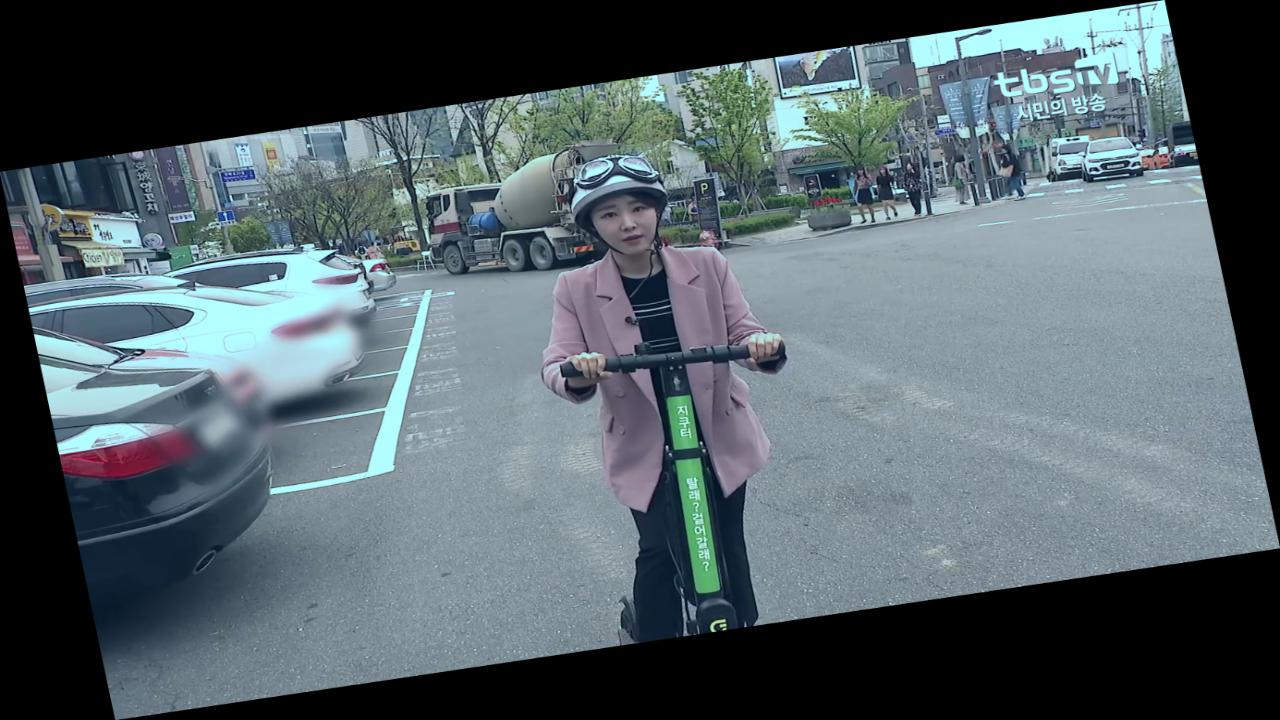helmet: (498, 135, 844, 649)
